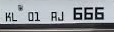character: (72, 6, 82, 20), (83, 6, 93, 20), (94, 6, 104, 20), (57, 10, 64, 21), (5, 10, 11, 22), (33, 10, 39, 21), (50, 10, 56, 21), (27, 11, 33, 21), (10, 12, 16, 21)
